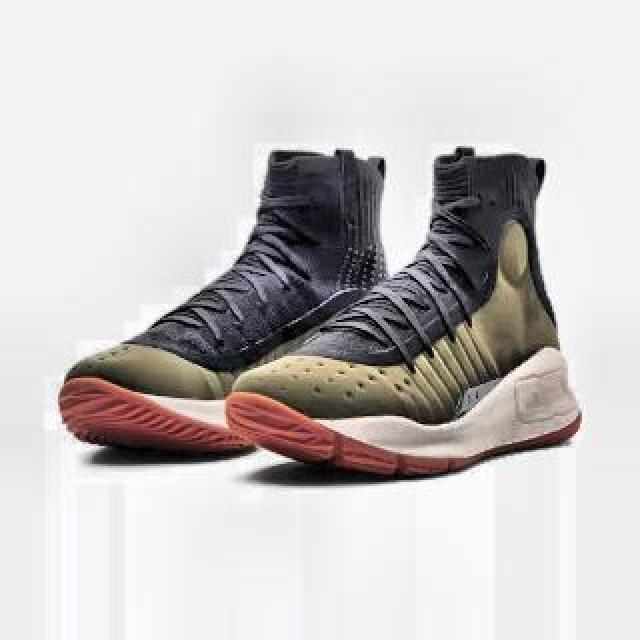shoe: (223, 145, 583, 473), (58, 148, 406, 458)
